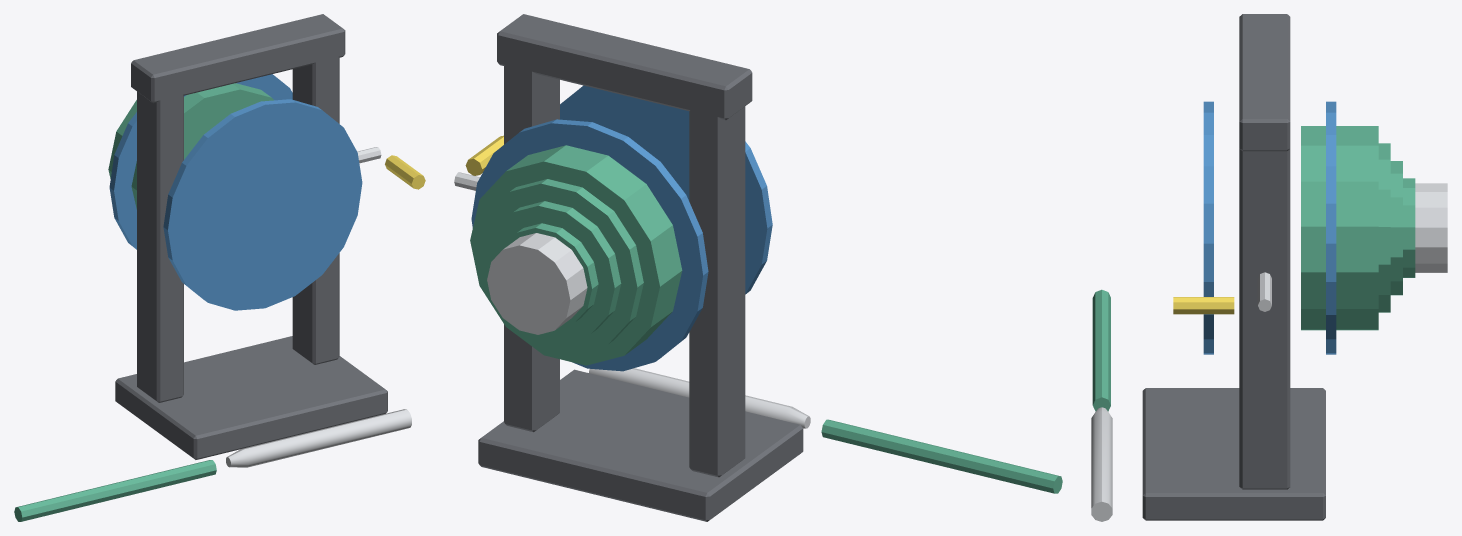
The model's file is public-swimming-baths-and-poolside-poolside-hose-reel-a4cb24e6__35260.glb.
3 renders of one model, left to right at view 1: azimuth 30°, elevation 25°; view 2: azimuth 150°, elevation 25°; view 3: azimuth 270°, elevation 25°, orthographic. The views are drawn at different scales.
Visible parts, largest first — view 1: poolside-hose-reel, hose-drum/blue, hose-drum/green; view 2: poolside-hose-reel, hose-drum/green, hose-drum/blue, hose-drum/metal; view 3: poolside-hose-reel, hose-drum/green, hose-drum/blue, hose-drum/metal.
Part boxes in pixels (left/top/right/bottom): poolside-hose-reel: left=14, top=14, right=425, bottom=521; hose-drum/blue: left=109, top=74, right=362, bottom=310; hose-drum/green: left=108, top=83, right=273, bottom=209; poolside-hose-reel: left=454, top=14, right=1062, bottom=521; hose-drum/green: left=470, top=145, right=682, bottom=365; hose-drum/blue: left=471, top=85, right=772, bottom=371; hose-drum/metal: left=487, top=233, right=587, bottom=334; poolside-hose-reel: left=1091, top=14, right=1325, bottom=521; hose-drum/green: left=1301, top=126, right=1415, bottom=330; hose-drum/blue: left=1203, top=101, right=1336, bottom=354; hose-drum/metal: left=1415, top=183, right=1447, bottom=272.
Bounding box in the file's own units: 1.13 × 0.87 × 0.6997.
